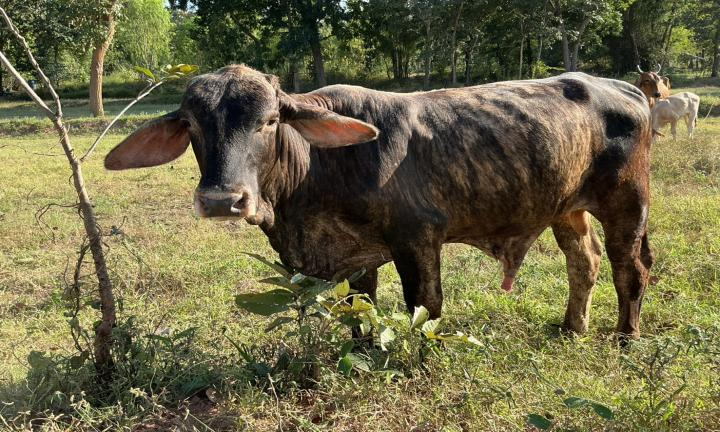Charolais: (105, 65, 653, 338)
